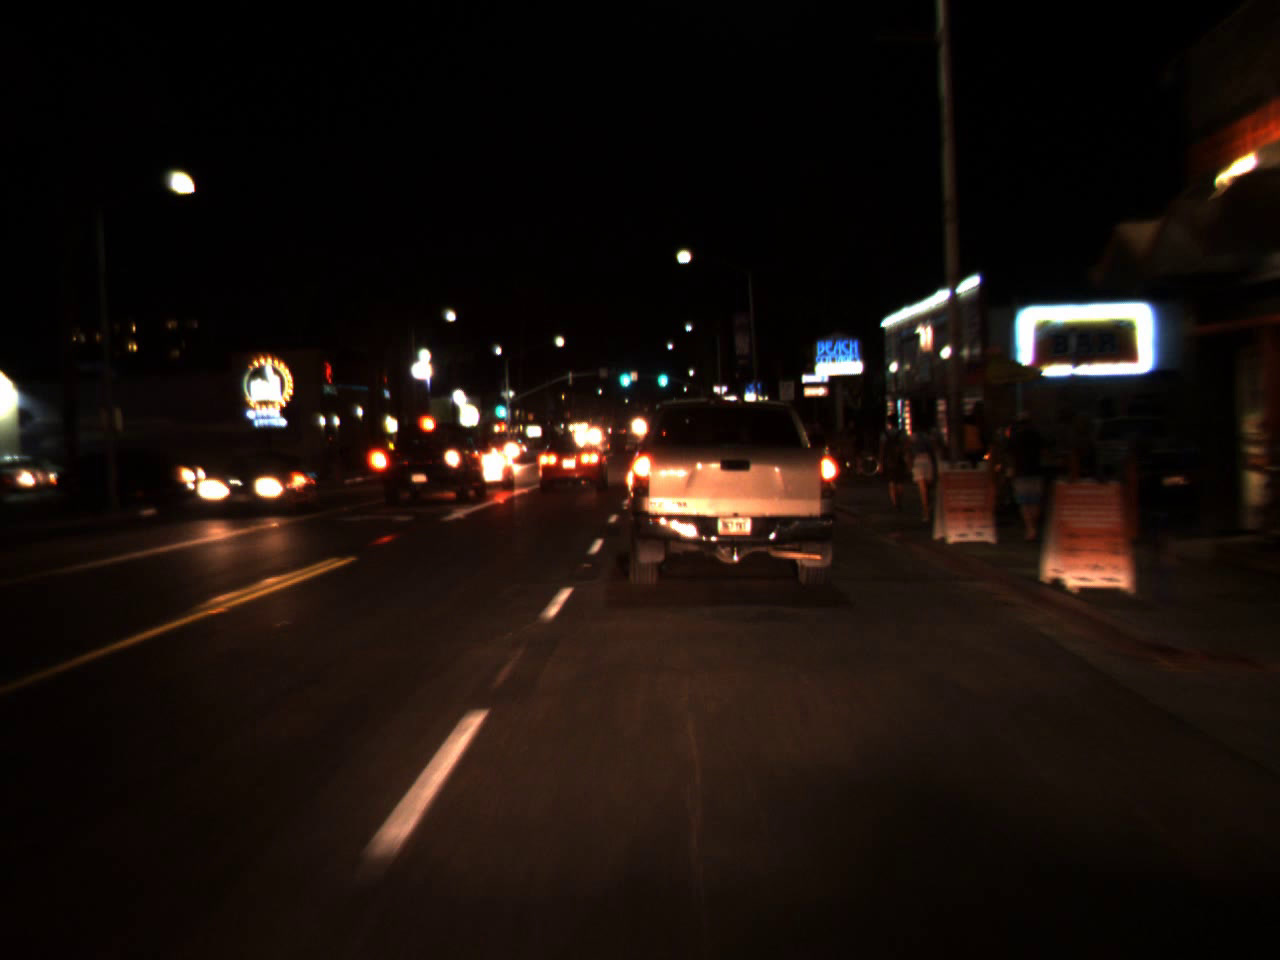go: (614, 356, 635, 392), (491, 388, 509, 424), (653, 358, 669, 391)
